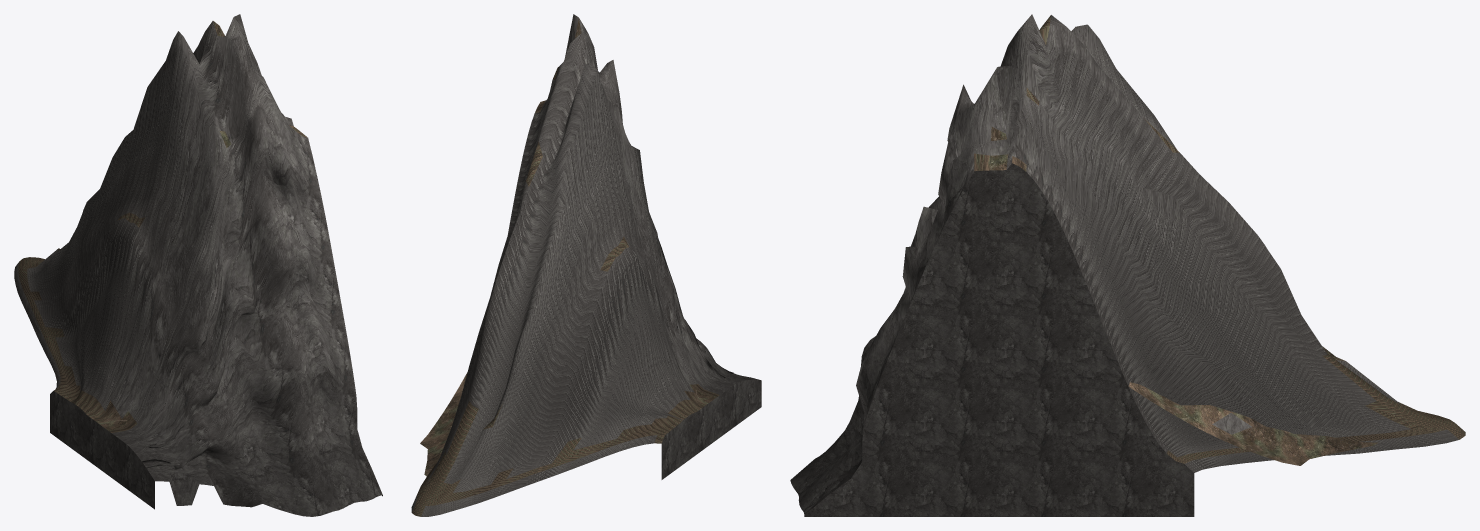
Rendered from seacliff_endcap_left_h8_a_v5_autumn.glb.
3 views of the same model, side by side, from view 1: azimuth 30°, elevation 25°; view 2: azimuth 150°, elevation 25°; view 3: azimuth 270°, elevation 25° (orthographic). The views are drawn at different scales.
Visible parts, largest first — view 1: seacliff_endcap_left_h8_a; view 2: seacliff_endcap_left_h8_a; view 3: seacliff_endcap_left_h8_a.
Boxes of the visible parts, left/top/right/bottom form: seacliff_endcap_left_h8_a: left=14, top=14, right=382, bottom=516; seacliff_endcap_left_h8_a: left=411, top=14, right=761, bottom=516; seacliff_endcap_left_h8_a: left=790, top=14, right=1465, bottom=516.
Size of the model in its own units: 6 by 13.06 by 16.72.
Materials: 2 (2 with a texture image).
